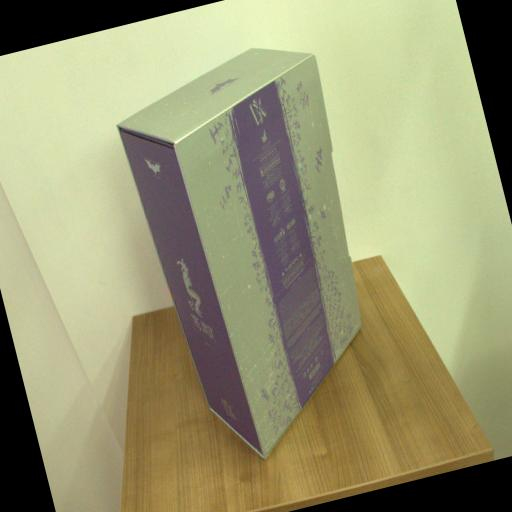Joker: (104, 27, 408, 472)
